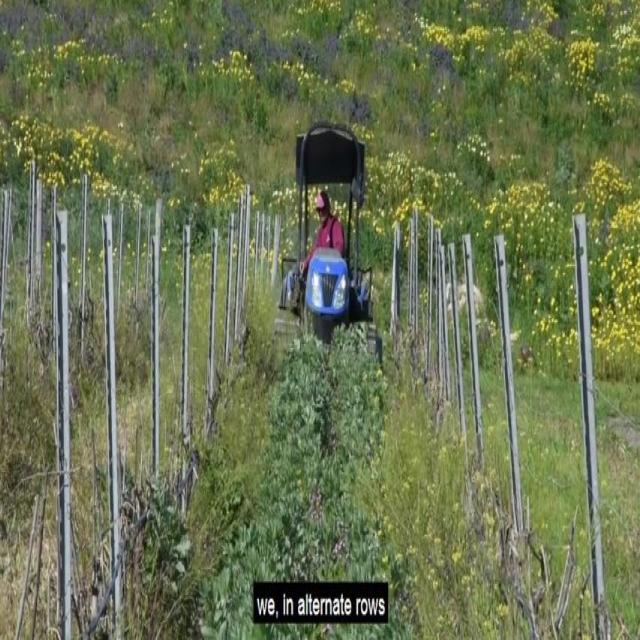row: (130, 311, 549, 637)
